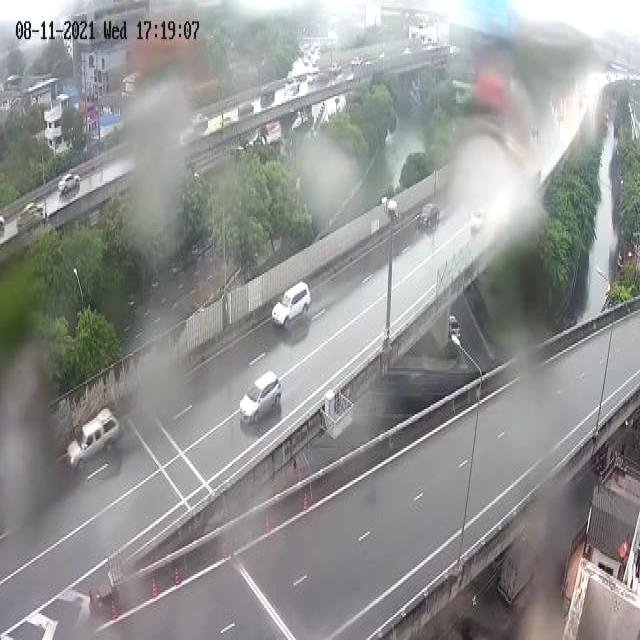Car: (64, 402, 122, 481), (267, 272, 313, 346), (233, 365, 286, 428), (20, 190, 50, 239), (462, 192, 489, 245), (419, 194, 440, 242), (59, 167, 78, 205), (190, 107, 210, 140), (284, 74, 300, 100)
Van: (235, 96, 258, 124), (260, 84, 278, 106)
